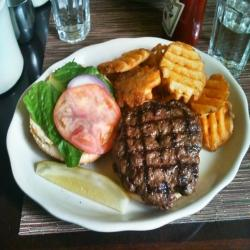burger: (26, 76, 206, 210)
fries: (106, 48, 242, 146)
salad: (29, 68, 78, 161)
